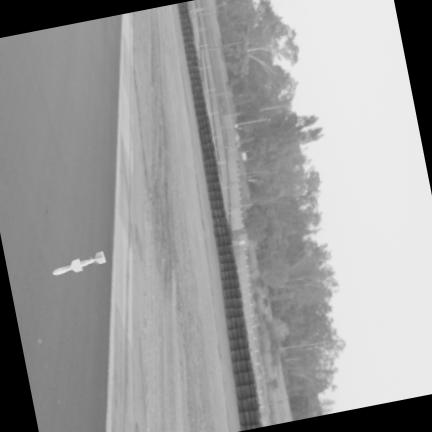Shahed: (53, 252, 104, 275)
